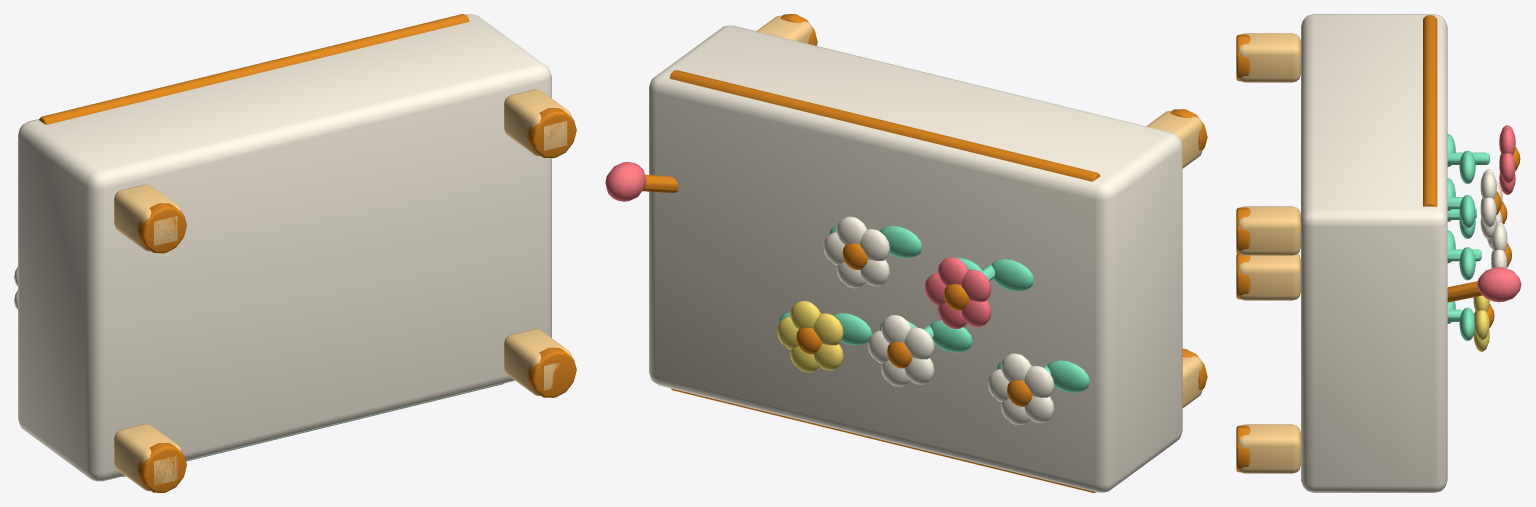
The model's file is BalconyPlanterBox_Premium.fbx.
3 renders of one model, left to right at view 1: azimuth 30°, elevation 25°; view 2: azimuth 150°, elevation 25°; view 3: azimuth 270°, elevation 25°, orthographic. The views are drawn at different scales.
Parts seen in each view (by area): view 1: BalconyPlanterBox; view 2: BalconyPlanterBox; view 3: BalconyPlanterBox.
Part boxes in pixels (x1,y1,x2,y2): BalconyPlanterBox: (14, 14, 576, 492); BalconyPlanterBox: (605, 14, 1207, 492); BalconyPlanterBox: (1236, 14, 1521, 492).
Bounding box in the file's own units: 0.841 × 0.5524 × 0.486.
